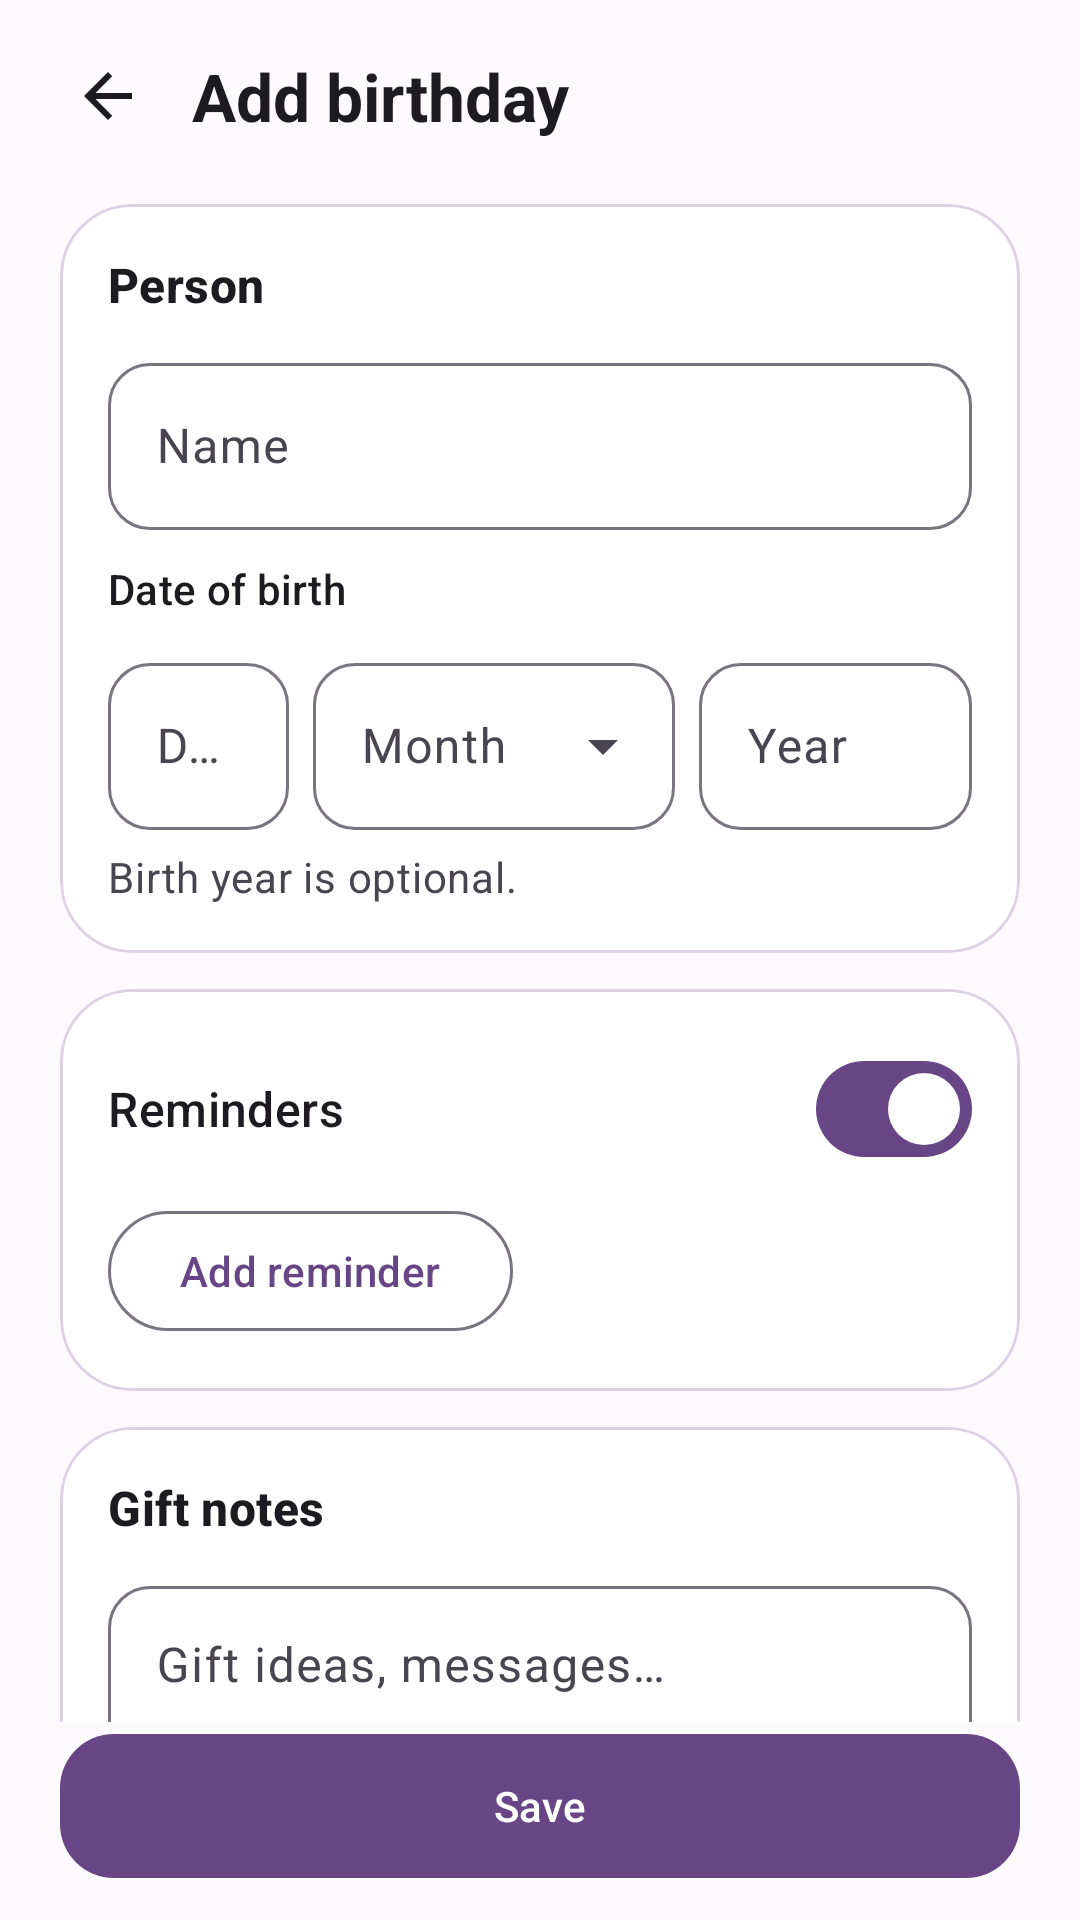

Screen size 1080px x 1920px. Icon name, then its box in pixels as box(x1, y1, x2, y2):
Back: box(84, 72, 132, 120)
